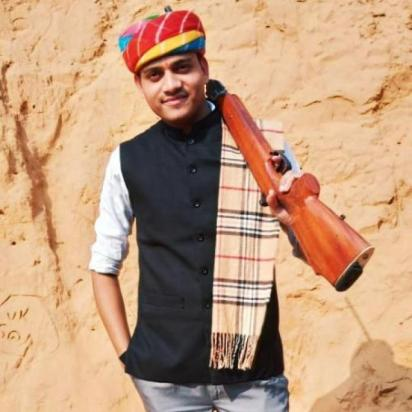Gun: (210, 3, 378, 281)
